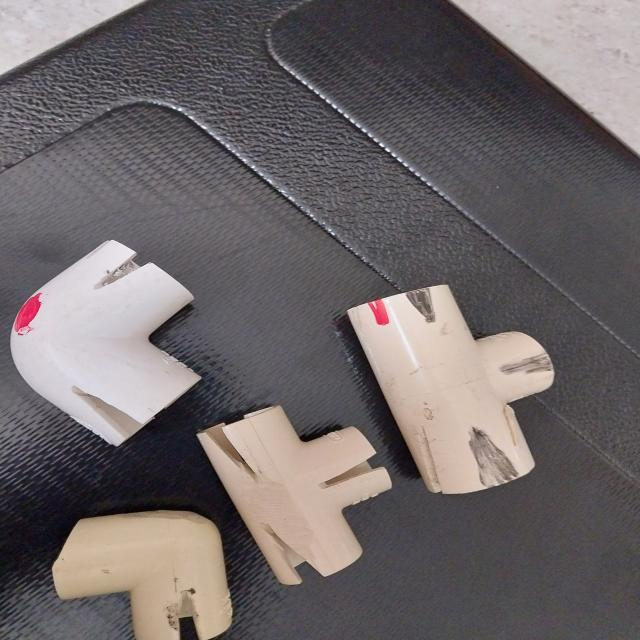Defective: (498, 351, 547, 417), (213, 431, 260, 486), (266, 520, 310, 576), (472, 428, 512, 486), (315, 456, 384, 488), (500, 403, 537, 461), (498, 354, 554, 384), (174, 588, 203, 639), (409, 288, 441, 325), (13, 301, 43, 329), (366, 300, 391, 325)
L Joint: (4, 245, 206, 452), (53, 511, 234, 638)
T Joint: (348, 284, 553, 496), (194, 409, 394, 593)
